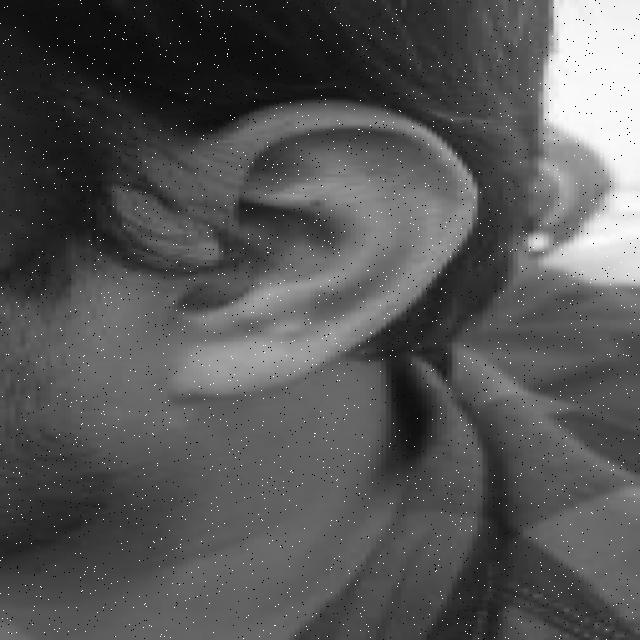ear: (168, 100, 472, 391)
